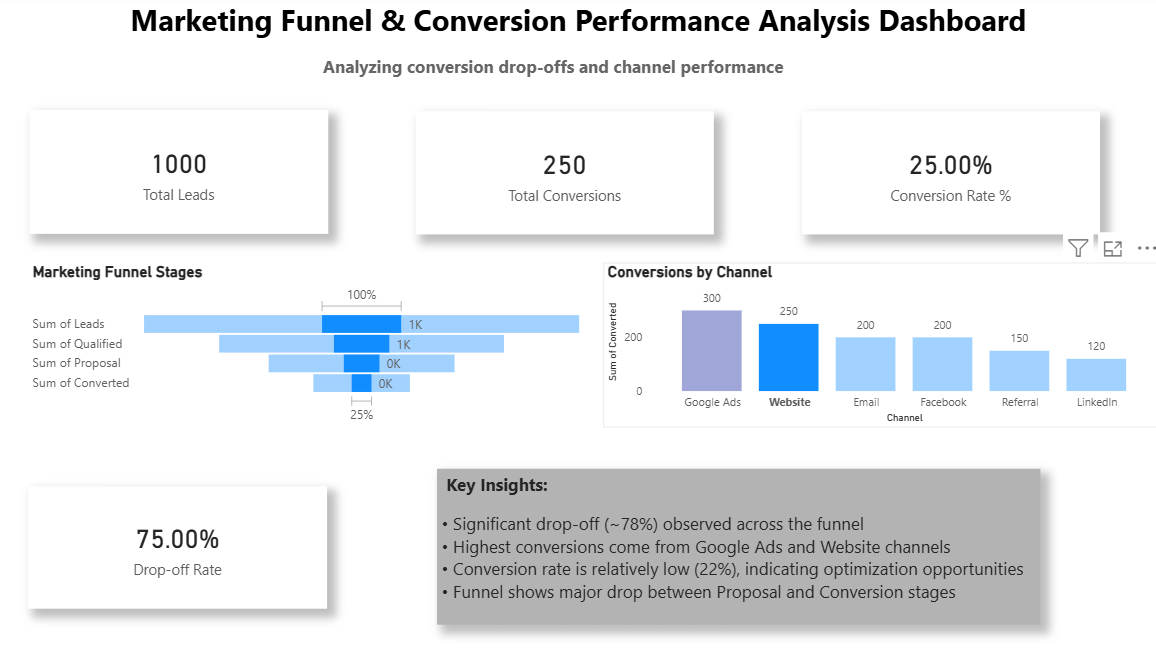

This screenshot's page, from the dashboard's own definition file:
{"tool":"powerbi","page":{"name":"Page 1","canvas":[1280,720],"ordinal":0},"visuals":[{"type":"card","fields":{"Values":["Sum(marketing_funnel_dataset.Leads)"]},"box":[34.3,127.6,328,135.8],"z":0},{"type":"card","fields":{"Values":["Sum(marketing_funnel_dataset.Converted)"]},"box":[459.5,127.6,327,135],"z":1000},{"type":"card","fields":{"Values":["marketing_funnel_dataset.Conversion Rate %"]},"box":[883.7,127.6,327,135],"z":2000},{"type":"textbox","box":[34.3,0,1181.5,60.4],"z":3000},{"type":"textbox","box":[20.6,60.4,1180.1,41.2],"z":4000},{"type":"funnel","title":"Marketing Funnel Stages","fields":{"Y":["Sum(marketing_funnel_dataset.Leads)","Sum(marketing_funnel_dataset.Qualified)","Sum(marketing_funnel_dataset.Proposal)","Sum(marketing_funnel_dataset.Converted)"]},"box":[34.3,293.7,615,181.1],"z":5000},{"type":"clusteredColumnChart","title":"Conversions by Channel","fields":{"Category":["marketing_funnel_dataset.Channel"],"Y":["Sum(marketing_funnel_dataset.Converted)"]},"box":[665.5,293.7,615,181.1],"z":6000},{"type":"card","fields":{"Values":["marketing_funnel_dataset.Drop-off Rate"]},"box":[34.3,539.3,328,134.5],"z":7000},{"type":"textbox","box":[483,520.1,662.8,171.5],"z":8000}]}

Visuals, with their boxes in screenshot pixels (x1, y1, x2, y2), scaled from the page's 1280x720 canvas onto the 1156x650 screenshot:
card - Sum(marketing_funnel_dataset.Leads): left=31, top=115, right=327, bottom=238
card - Sum(marketing_funnel_dataset.Converted): left=415, top=115, right=710, bottom=237
card - marketing_funnel_dataset.Conversion Rate %: left=798, top=115, right=1093, bottom=237
textbox: left=31, top=0, right=1098, bottom=55
textbox: left=19, top=55, right=1084, bottom=92
"Marketing Funnel Stages" funnel: left=31, top=265, right=586, bottom=429
"Conversions by Channel" clusteredColumnChart: left=601, top=265, right=1155, bottom=429
card - marketing_funnel_dataset.Drop-off Rate: left=31, top=487, right=327, bottom=608
textbox: left=436, top=470, right=1035, bottom=624
